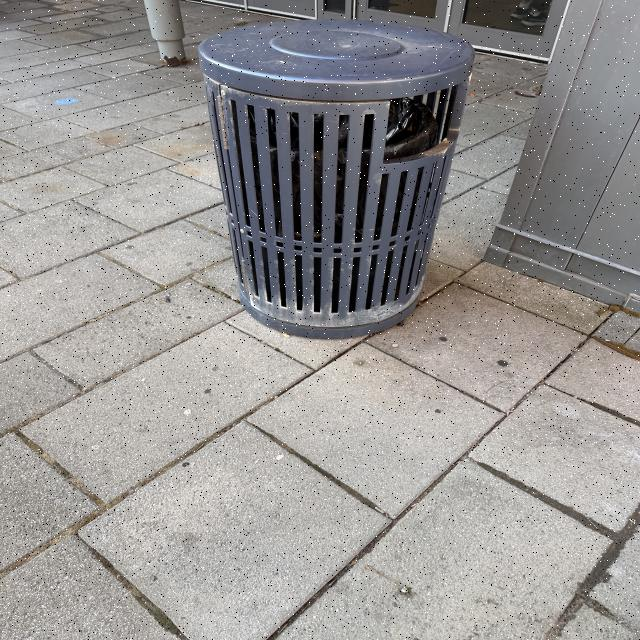Dustbin: (197, 22, 477, 343)
